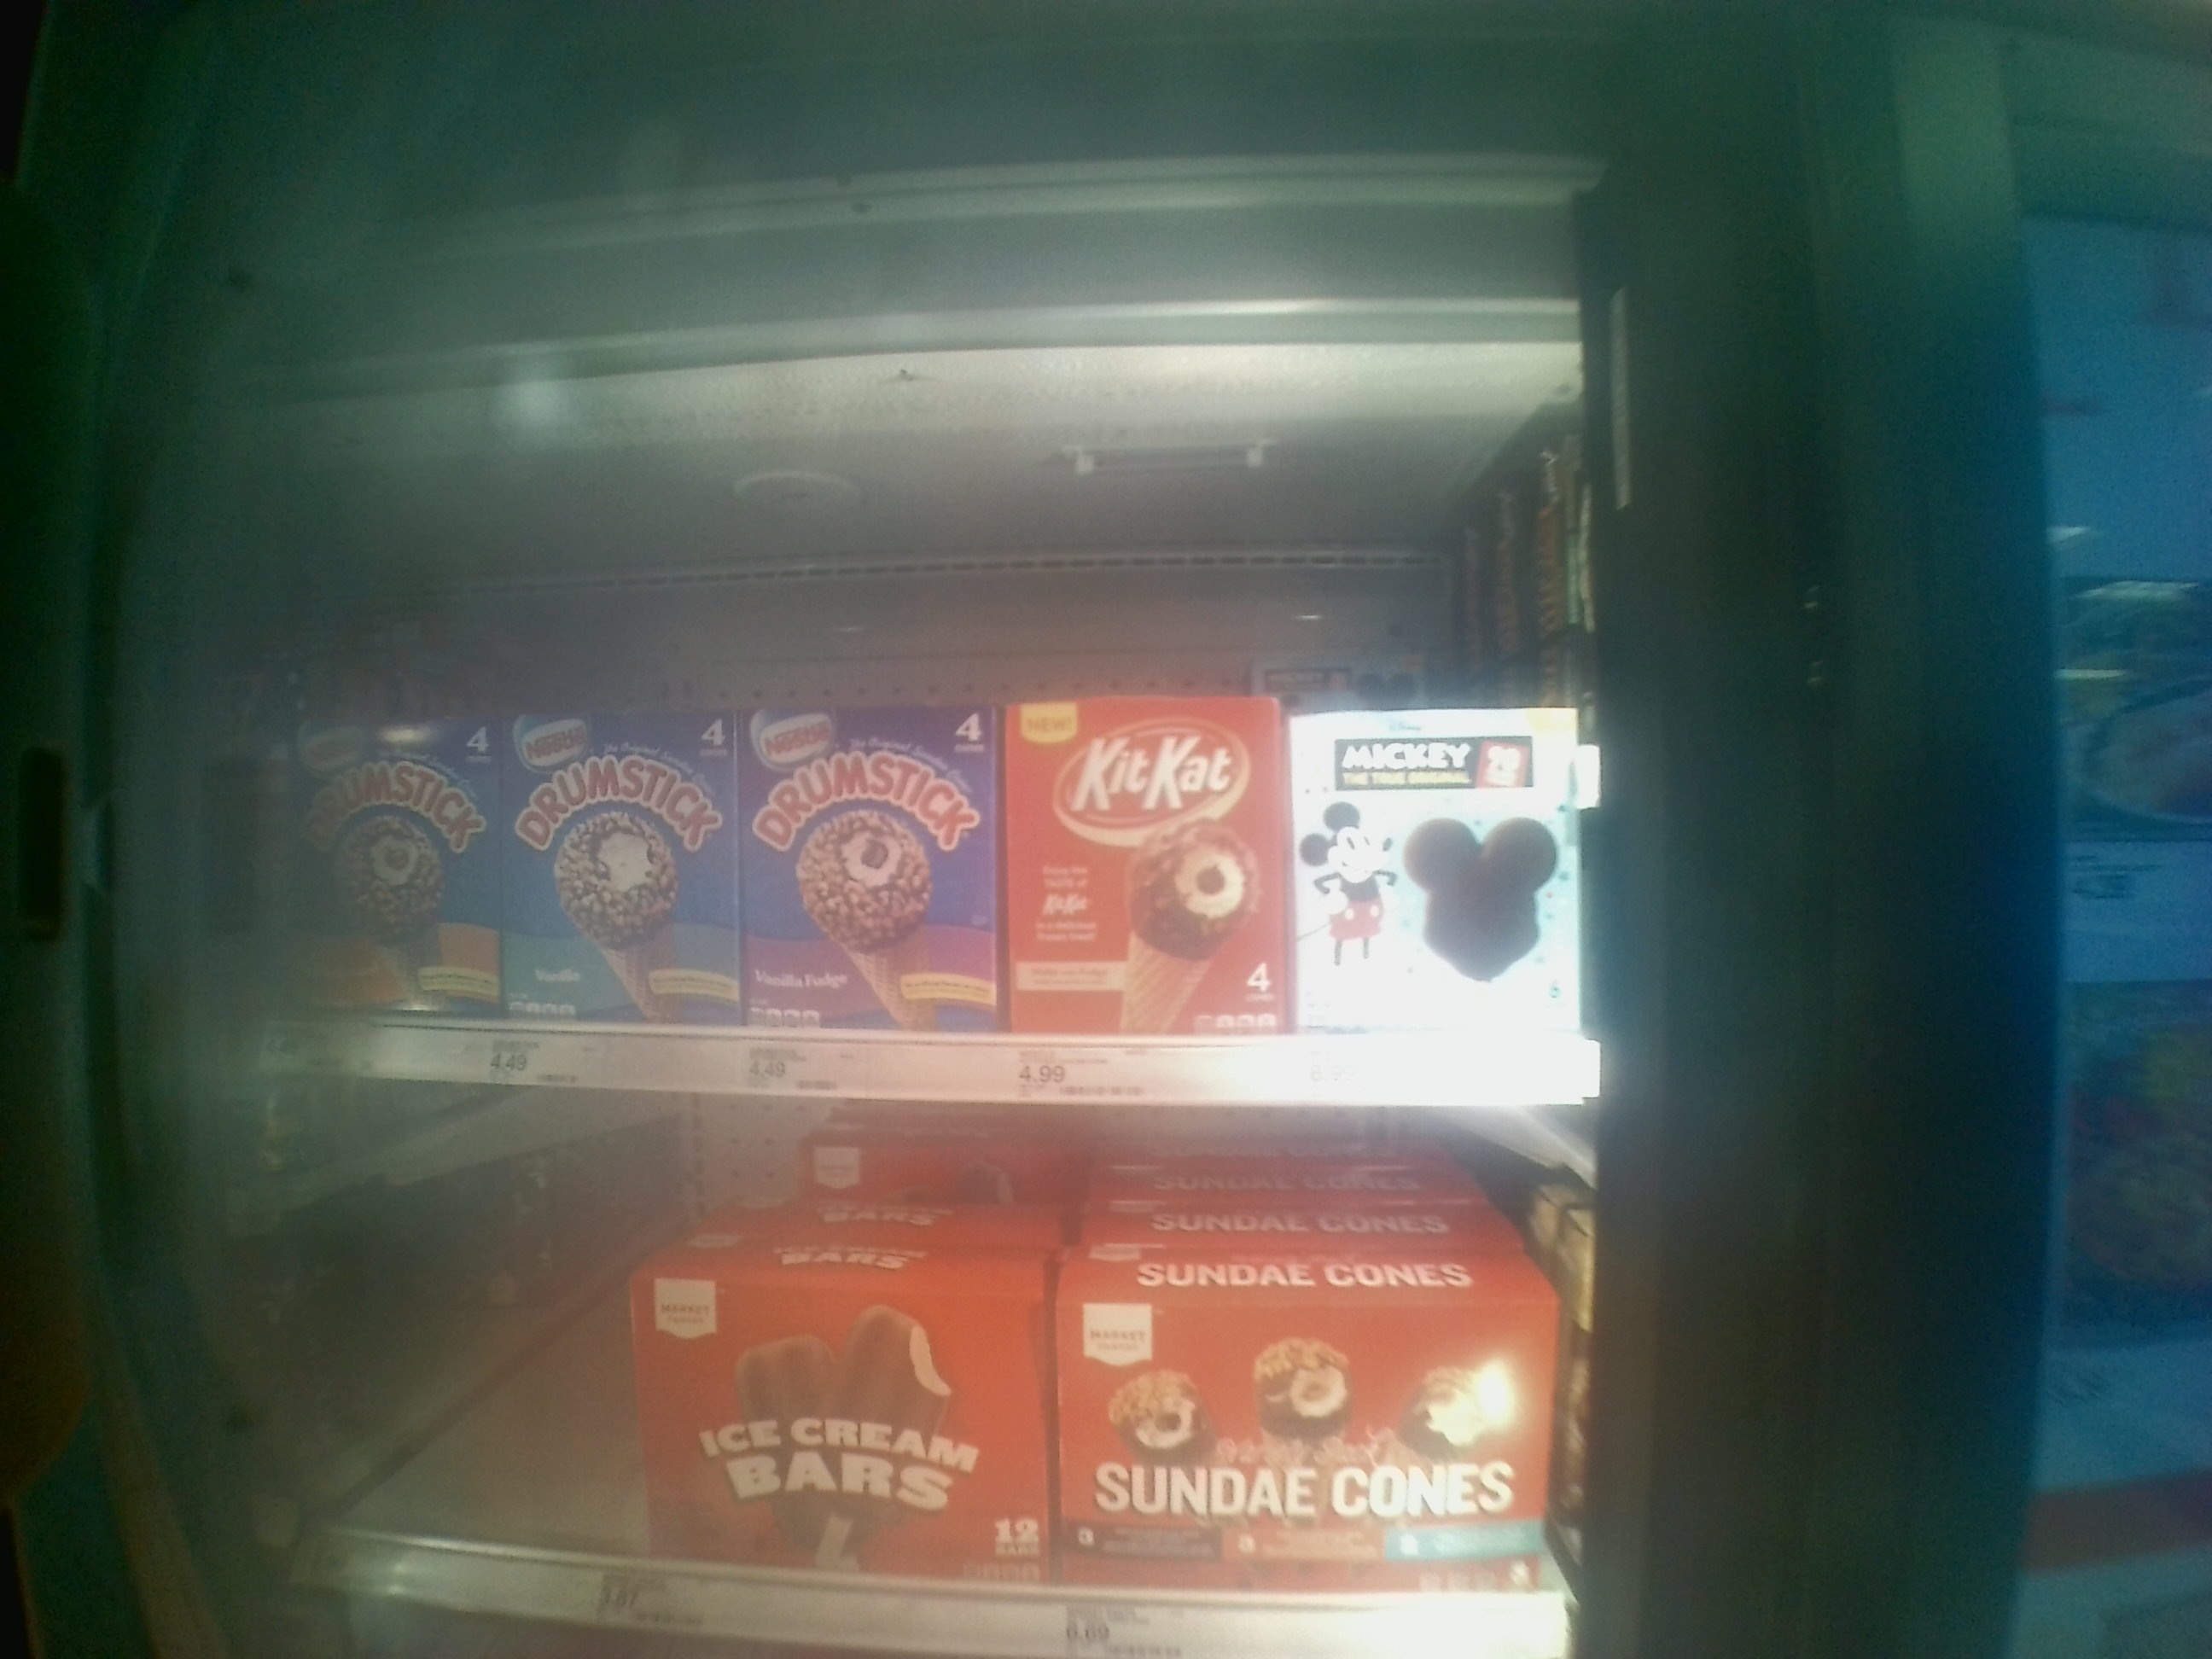shelf: (235, 315, 1615, 1089), (230, 1054, 1609, 1635)
